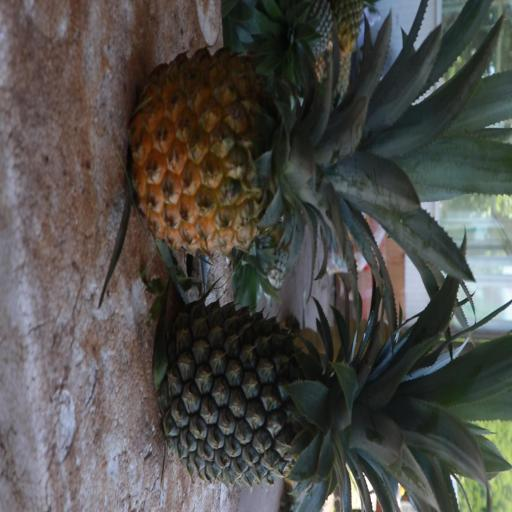Pineapple - v8 v1: (134, 54, 461, 255)
